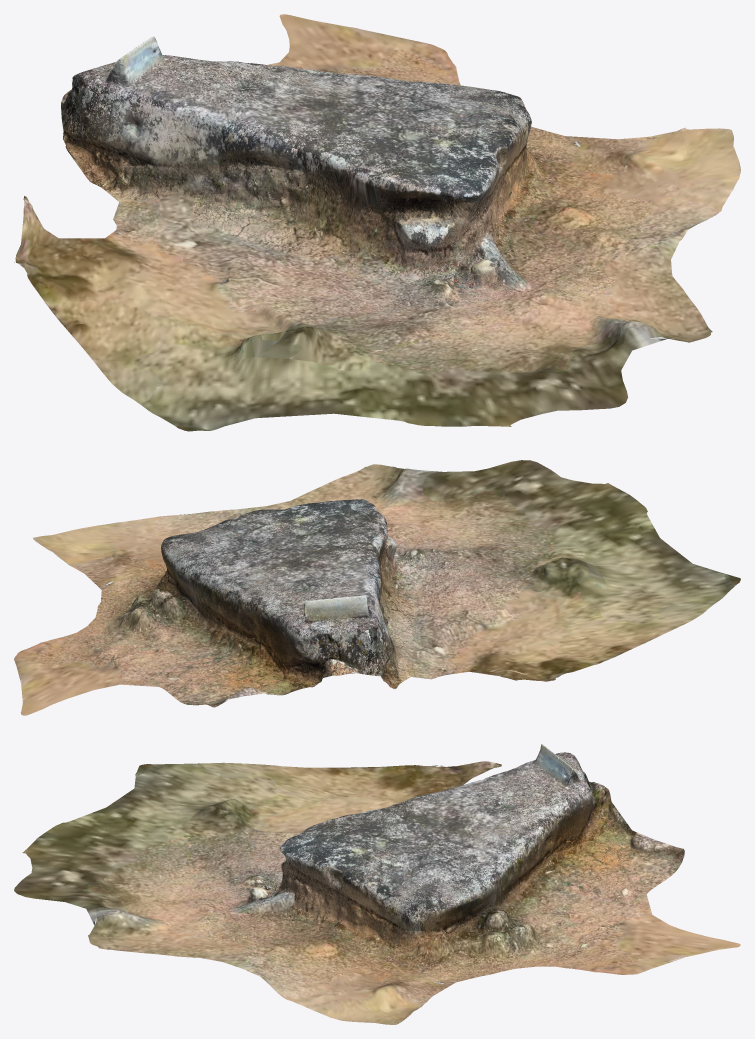
File: sejadah.glb
3 renders of one model, top to bottom at view 1: azimuth 30°, elevation 25°; view 2: azimuth 150°, elevation 25°; view 3: azimuth 270°, elevation 25°, orthographic. The views are drawn at different scales.
Parts seen in each view (by area): view 1: mesh; view 2: mesh; view 3: mesh.
Boxes of the visible parts, box(x1,y1,x2,y2) form: mesh: box(14, 14, 740, 431); mesh: box(14, 460, 740, 715); mesh: box(14, 744, 740, 1024).
Size of the model in its own units: 3.12 by 0.5496 by 3.64.
Materials: 1 (1 with a texture image).
